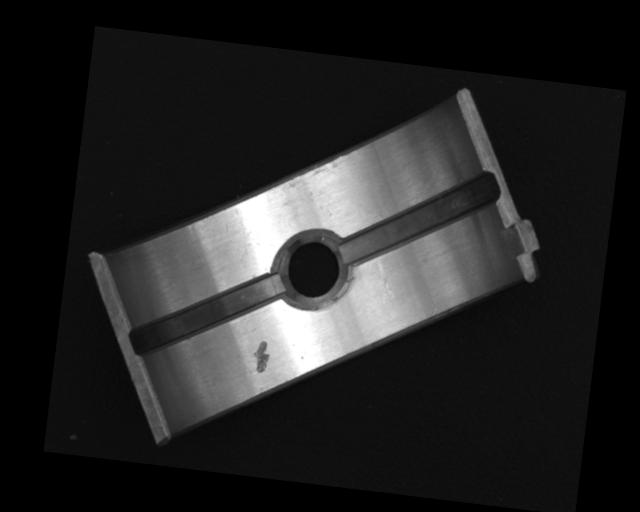bruise: (248, 338, 272, 375)
gap: (340, 154, 500, 282), (127, 259, 286, 373)
hole: (277, 230, 350, 313)
nick: (371, 258, 398, 305)
